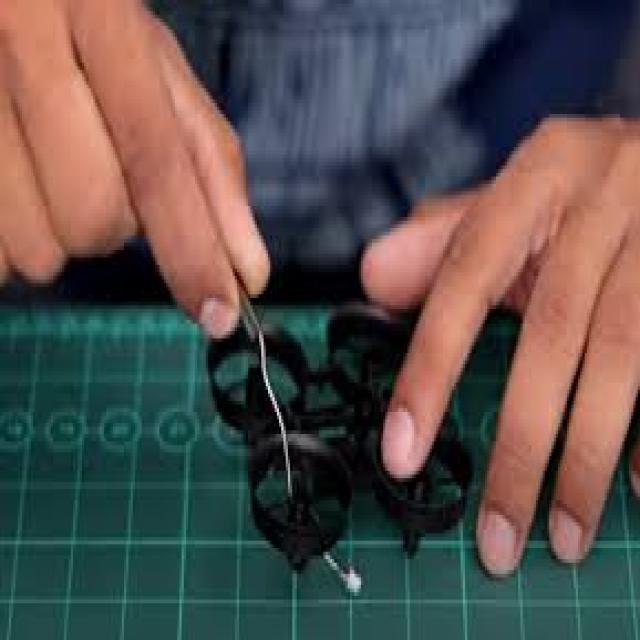drone: (193, 290, 482, 578)
